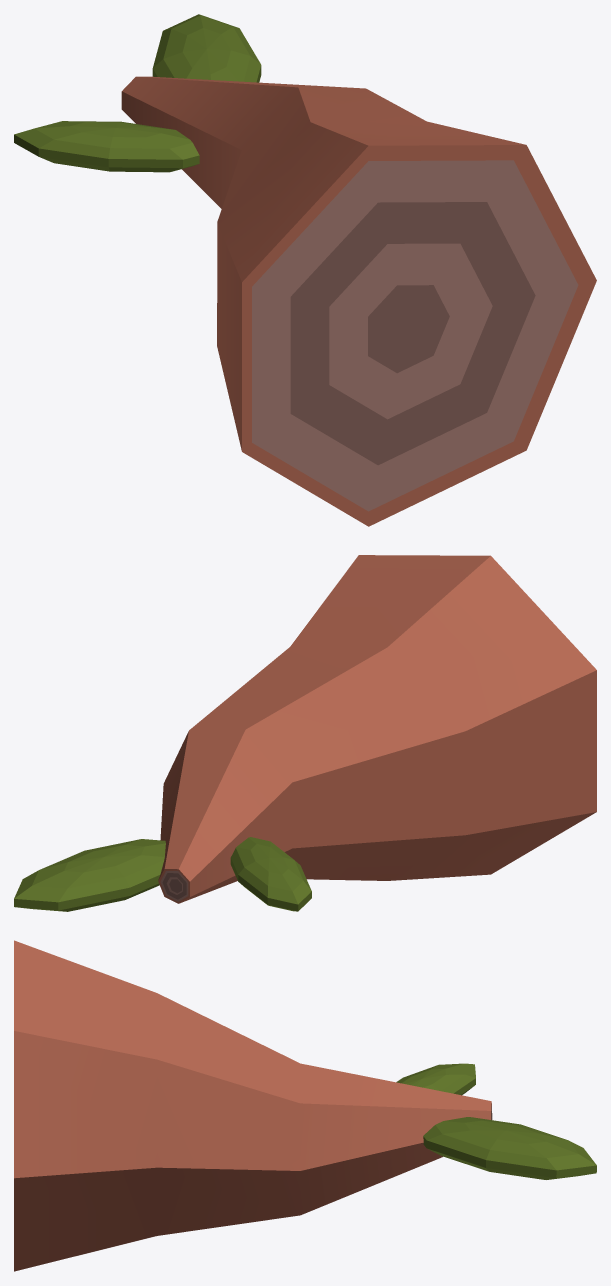
Rendered from Tail.fbx.
The picture shows the model from 3 angles, top to bottom: view 1: azimuth 30°, elevation 25°; view 2: azimuth 150°, elevation 25°; view 3: azimuth 270°, elevation 25°; orthographic projection. The views are drawn at different scales.
Parts seen in each view (by area): view 1: pCylinder8, pSphere32, pSphere33; view 2: pCylinder8, pSphere33, pSphere32; view 3: pCylinder8, pSphere33, pSphere32.
Boxes of the visible parts, left/top/right/bottom form: pCylinder8: left=121, top=76, right=596, bottom=526; pSphere32: left=14, top=121, right=199, bottom=172; pSphere33: left=152, top=14, right=261, bottom=82; pCylinder8: left=158, top=555, right=596, bottom=903; pSphere33: left=14, top=839, right=165, bottom=911; pSphere32: left=230, top=837, right=311, bottom=911; pCylinder8: left=14, top=940, right=492, bottom=1271; pSphere33: left=423, top=1117, right=596, bottom=1179; pSphere32: left=396, top=1063, right=475, bottom=1095.
Size of the model in its own units: 1.38 by 1.41 by 2.49.
